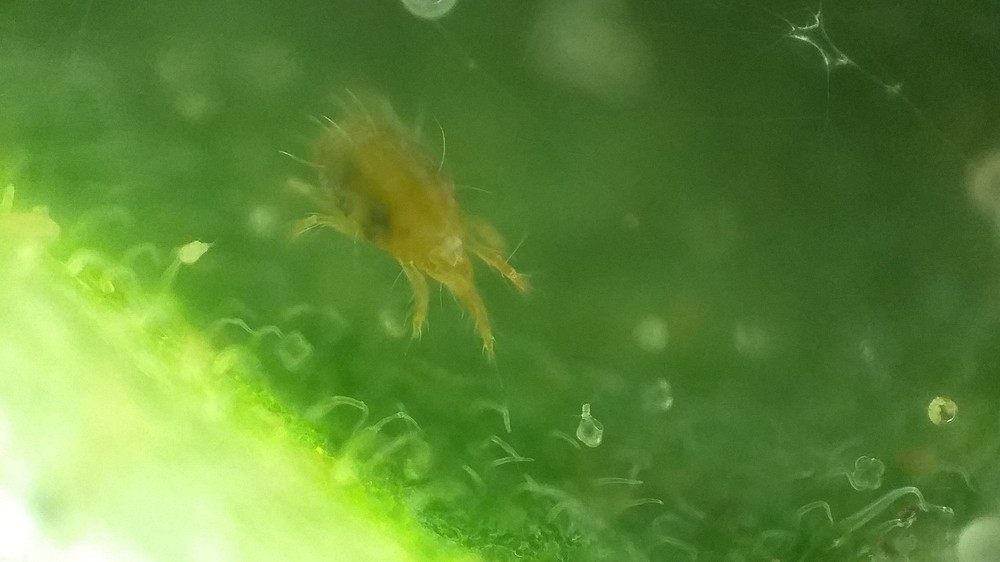Aracnido Rojo: (262, 74, 567, 386)
